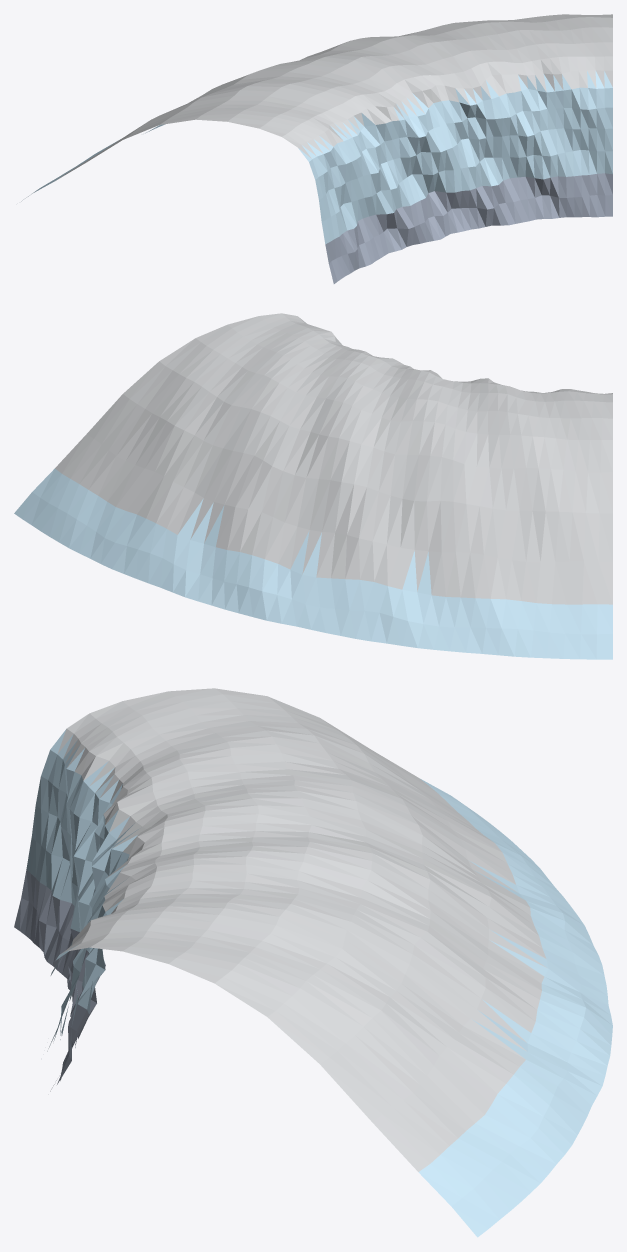
Rendered from SpleefCliff.glb.
3 renders of one model, top to bottom at view 1: azimuth 30°, elevation 25°; view 2: azimuth 150°, elevation 25°; view 3: azimuth 270°, elevation 25°, orthographic. The views are drawn at different scales.
Visible parts, largest first — view 1: Snow, Ice, Rock; view 2: Snow, Ice; view 3: Snow, Ice, Rock.
Part boxes in pixels (x1,y1,x2,y2): Snow: (56, 14, 612, 180); Ice: (21, 71, 612, 244); Rock: (325, 173, 612, 283); Snow: (55, 313, 612, 604); Ice: (14, 468, 612, 659); Snow: (57, 688, 546, 1171); Ice: (26, 729, 612, 1237); Rock: (14, 869, 105, 1091).
Bounding box in the file's own units: 132 × 29.5 × 78.89.
